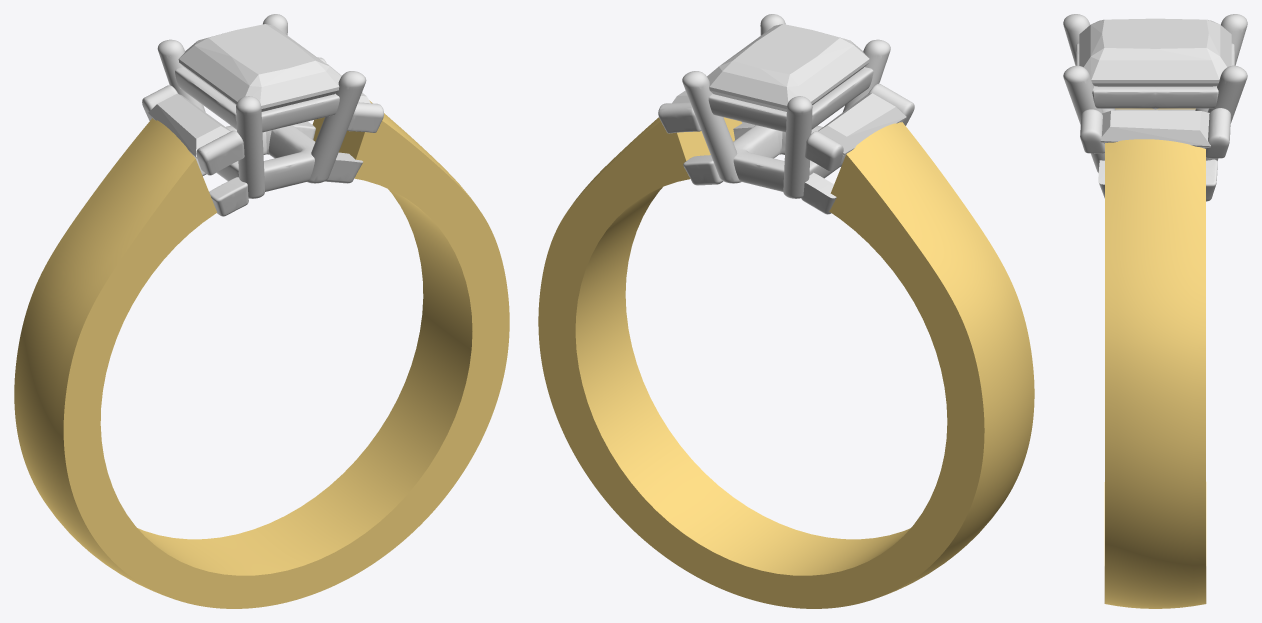
Rendered from RhondaYGPT_blender.glb.
The picture shows the model from 3 angles, left to right: view 1: azimuth 30°, elevation 25°; view 2: azimuth 150°, elevation 25°; view 3: azimuth 270°, elevation 25°; orthographic projection.
Parts seen in each view (by area): view 1: Rhonda YG for 3d model, Rhonda PT for 3d model, Rhonda dia center for 3d model, Rhonda dia sides for 3d model; view 2: Rhonda YG for 3d model, Rhonda PT for 3d model, Rhonda dia center for 3d model, Rhonda dia sides for 3d model; view 3: Rhonda YG for 3d model, Rhonda dia center for 3d model, Rhonda PT for 3d model, Rhonda dia sides for 3d model.001.
Boxes of the visible parts, x1,y1,x2,y2 form: Rhonda YG for 3d model: (14, 100, 509, 608); Rhonda PT for 3d model: (142, 14, 383, 216); Rhonda dia center for 3d model: (178, 24, 341, 111); Rhonda dia sides for 3d model: (148, 93, 230, 158); Rhonda YG for 3d model: (538, 117, 1034, 608); Rhonda PT for 3d model: (658, 14, 914, 214); Rhonda dia center for 3d model: (707, 24, 869, 111); Rhonda dia sides for 3d model: (818, 93, 906, 155); Rhonda YG for 3d model: (1104, 108, 1206, 608); Rhonda dia center for 3d model: (1079, 18, 1231, 109); Rhonda PT for 3d model: (1063, 14, 1247, 201); Rhonda dia sides for 3d model.001: (1100, 110, 1210, 148).
Size of the model in its own units: 23.8 by 26.89 by 8.19.
